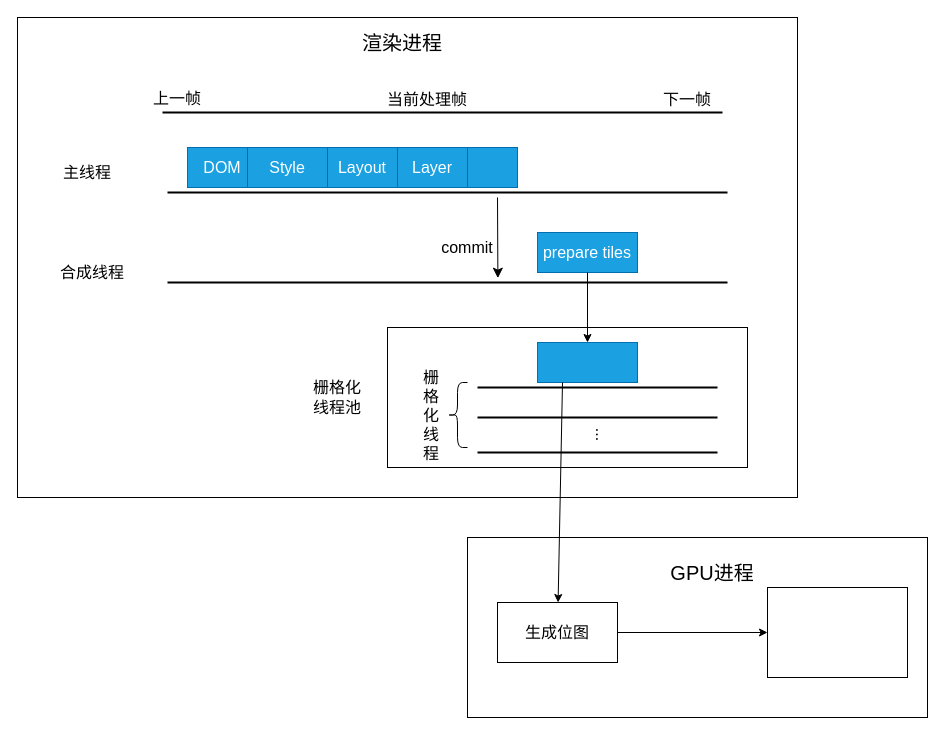
Image size: 945x735. Some labels were removed from this diagram. Each missing label, with the box of its shape:
Paint: (466, 146, 518, 188)
raster task: (536, 342, 638, 382)
生成的位图保存在GPU内存中: (766, 586, 908, 678)
